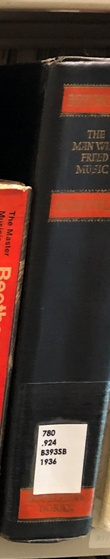call_number: (37, 423, 83, 493)
